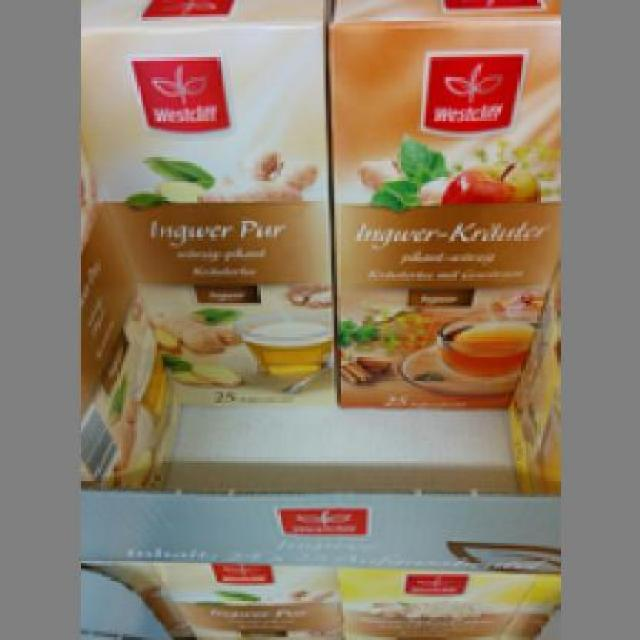Tea: (76, 0, 332, 403), (323, 0, 557, 403)
